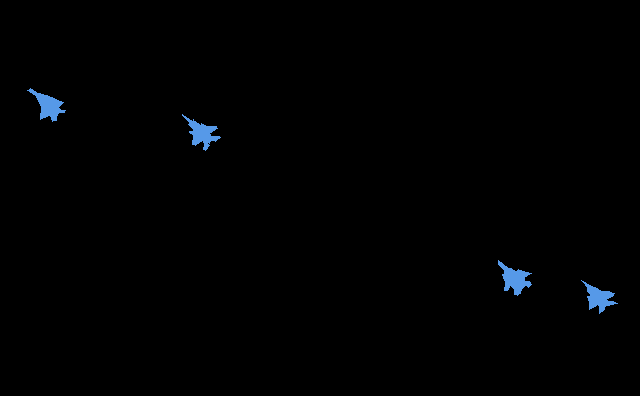Airplane: (182, 114, 220, 150), (27, 88, 65, 122), (581, 280, 618, 314), (498, 260, 532, 295)
